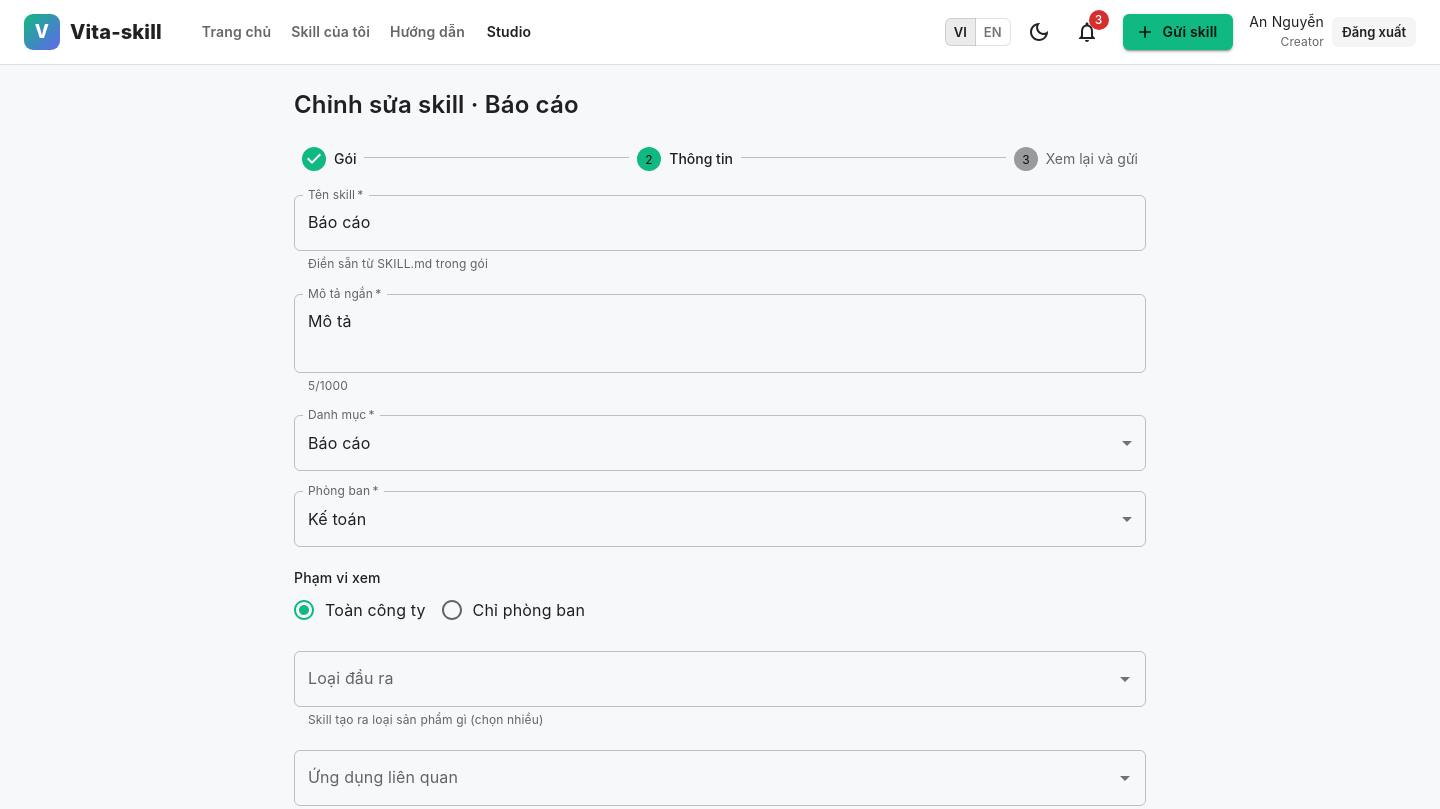
Scenario: Wizard › bước 2: kiểm tra form, lưu skill và phiên bản rồi sang bước 3
Clear the text box labelled "Mô tả ngắn *" at x=720, y=333, box [308,310,1132,356]
(page scrolled)
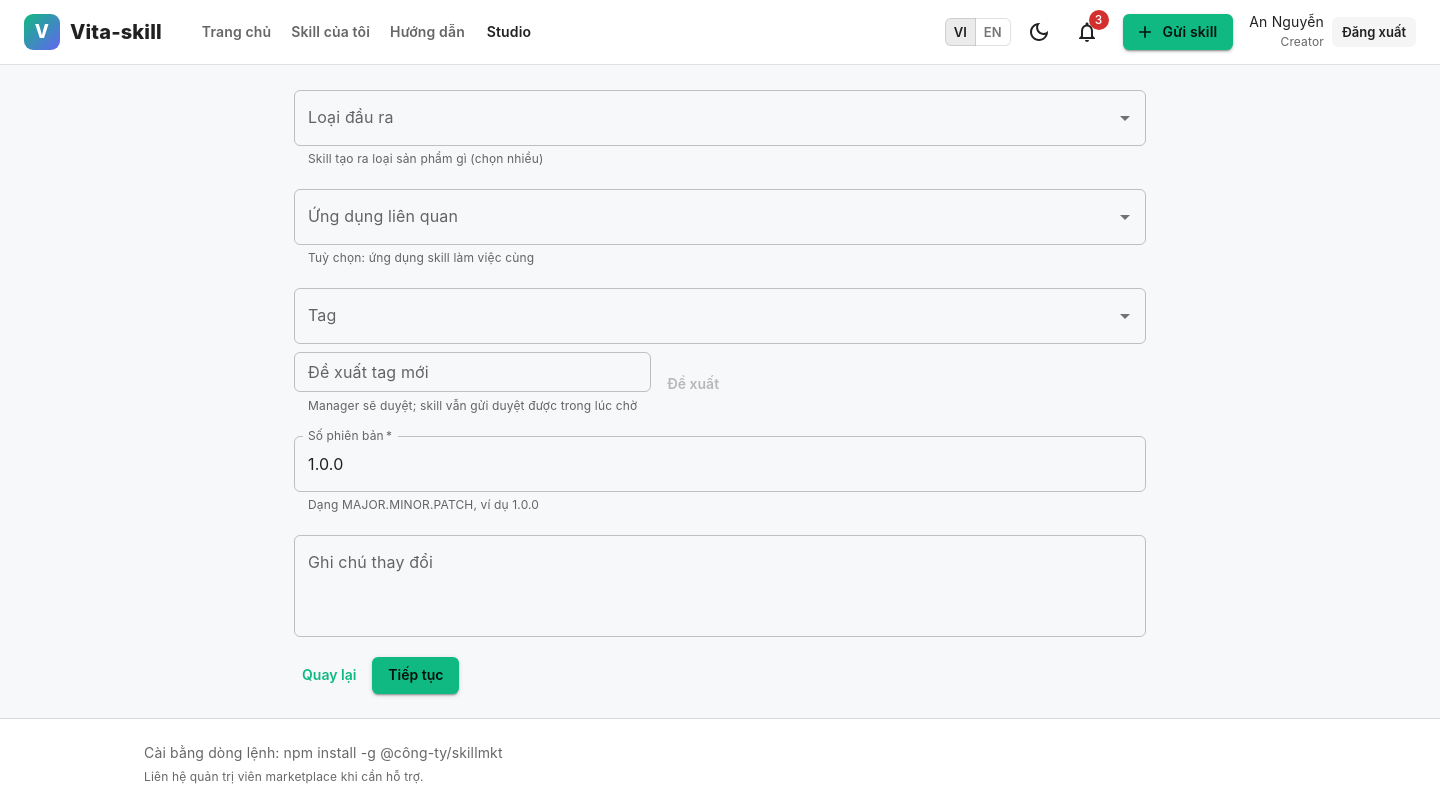
Click the button "Tiếp tục" at x=416, y=675, box [372,657,459,694]
(page scrolled)
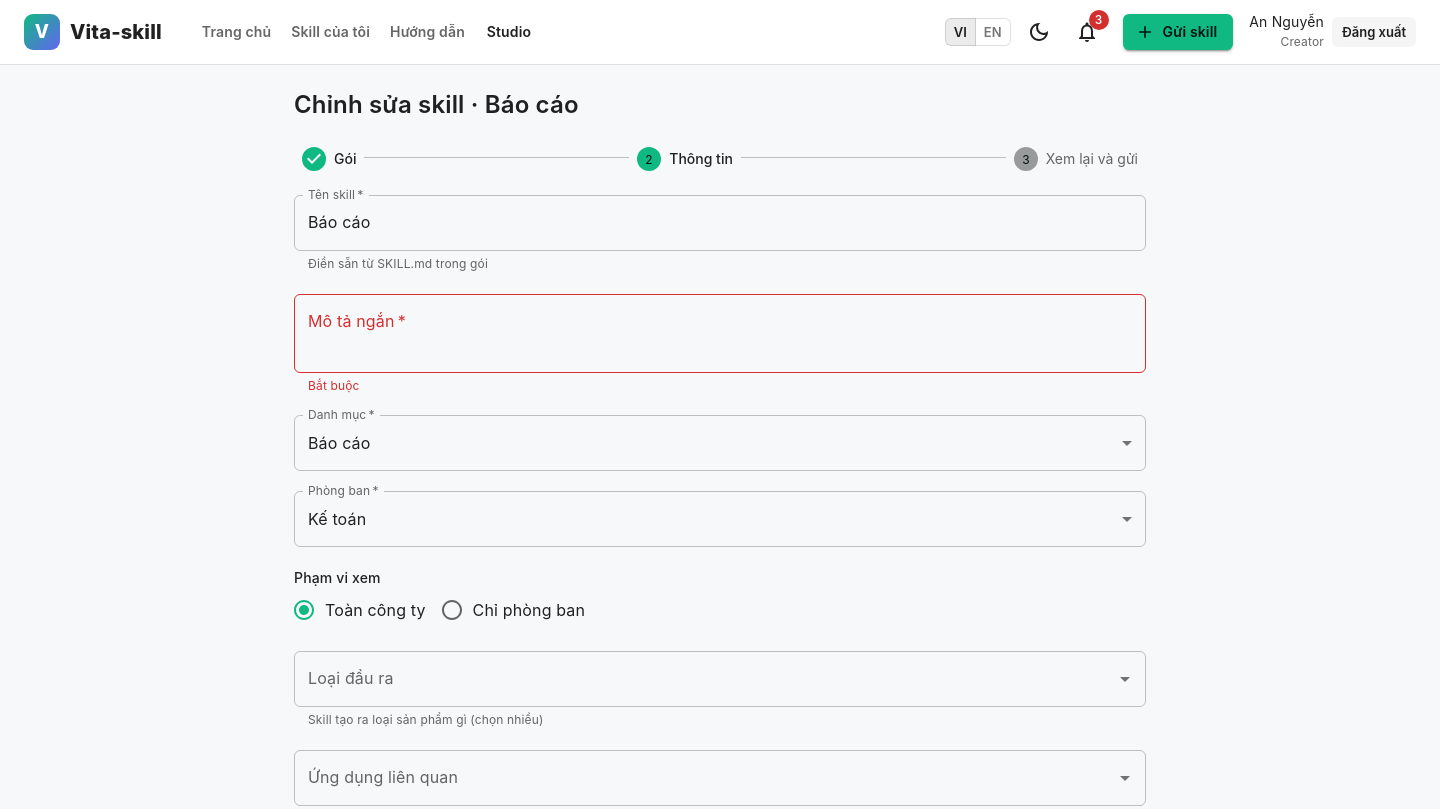
Type "Mô tả đã sửa" into the text box labelled "Mô tả ngắn *" at x=720, y=333, box [308,310,1132,356]
(page scrolled)
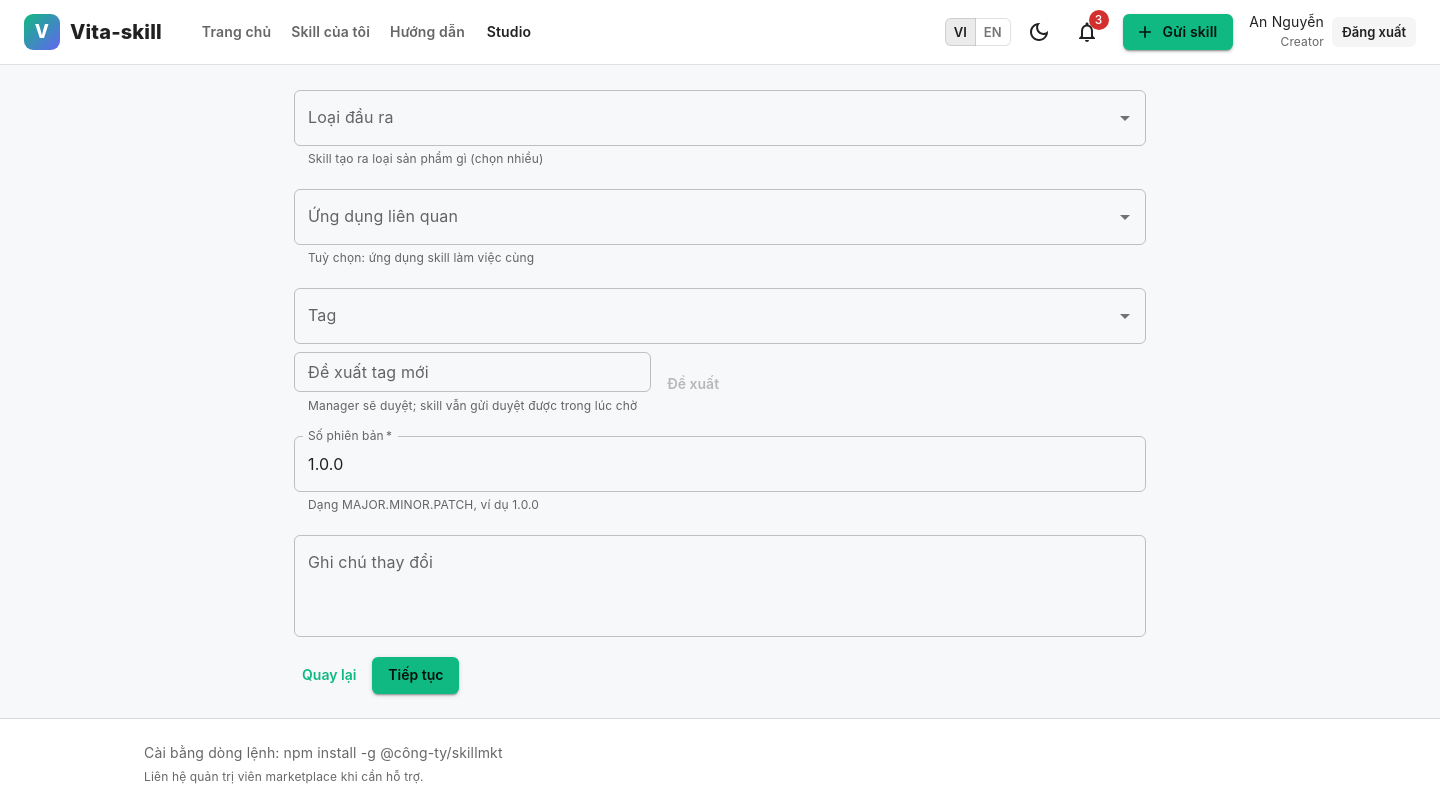
Replace the text in the field labelled "Số phiên bản *" with "1.2.0" at x=720, y=464, box [294,436,1146,492]
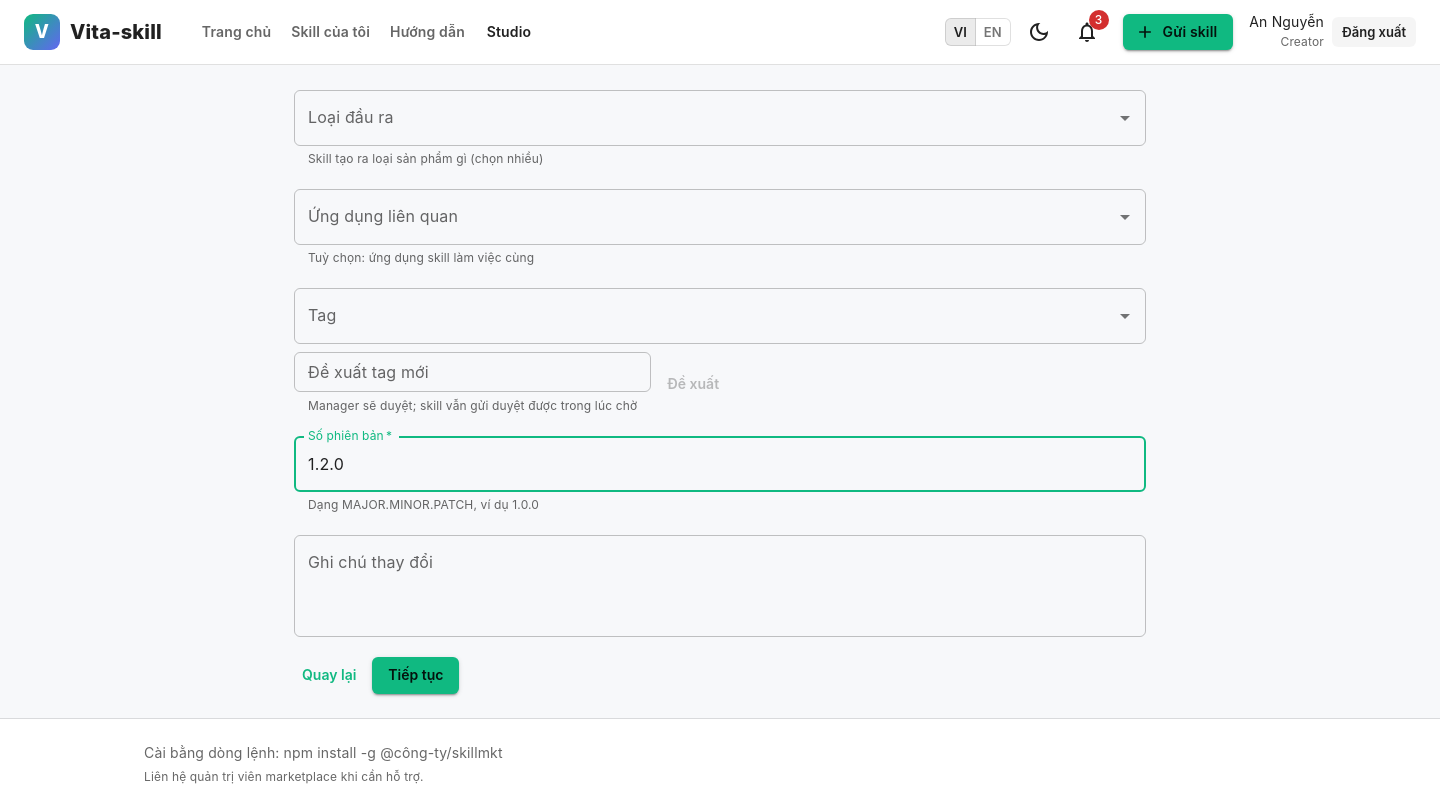
Type "Bản đầu" into the text box labelled "Ghi chú thay đổi" at x=720, y=586, box [308,552,1132,620]
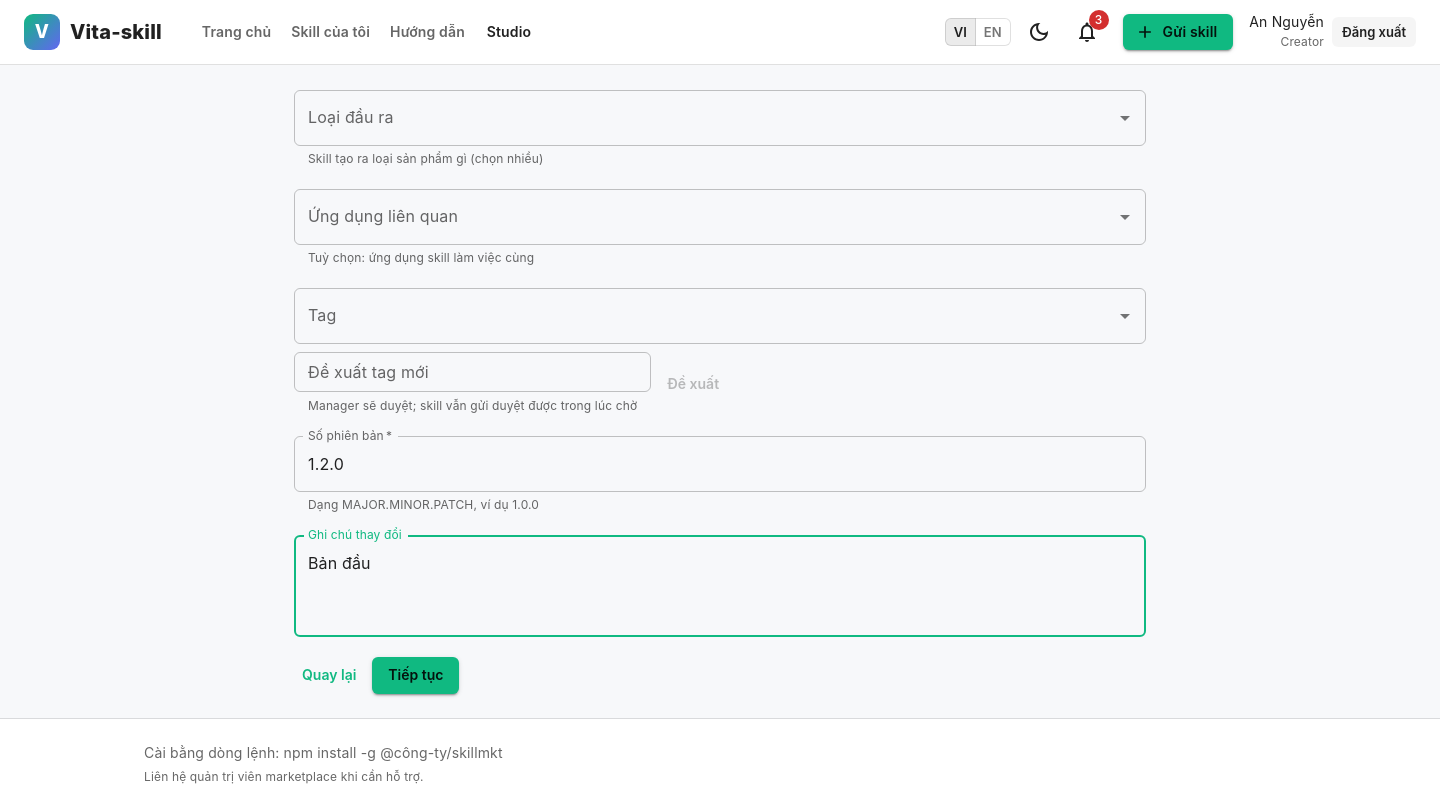
Click the button "Tiếp tục" at x=416, y=675, box [372,657,459,694]
(page scrolled)
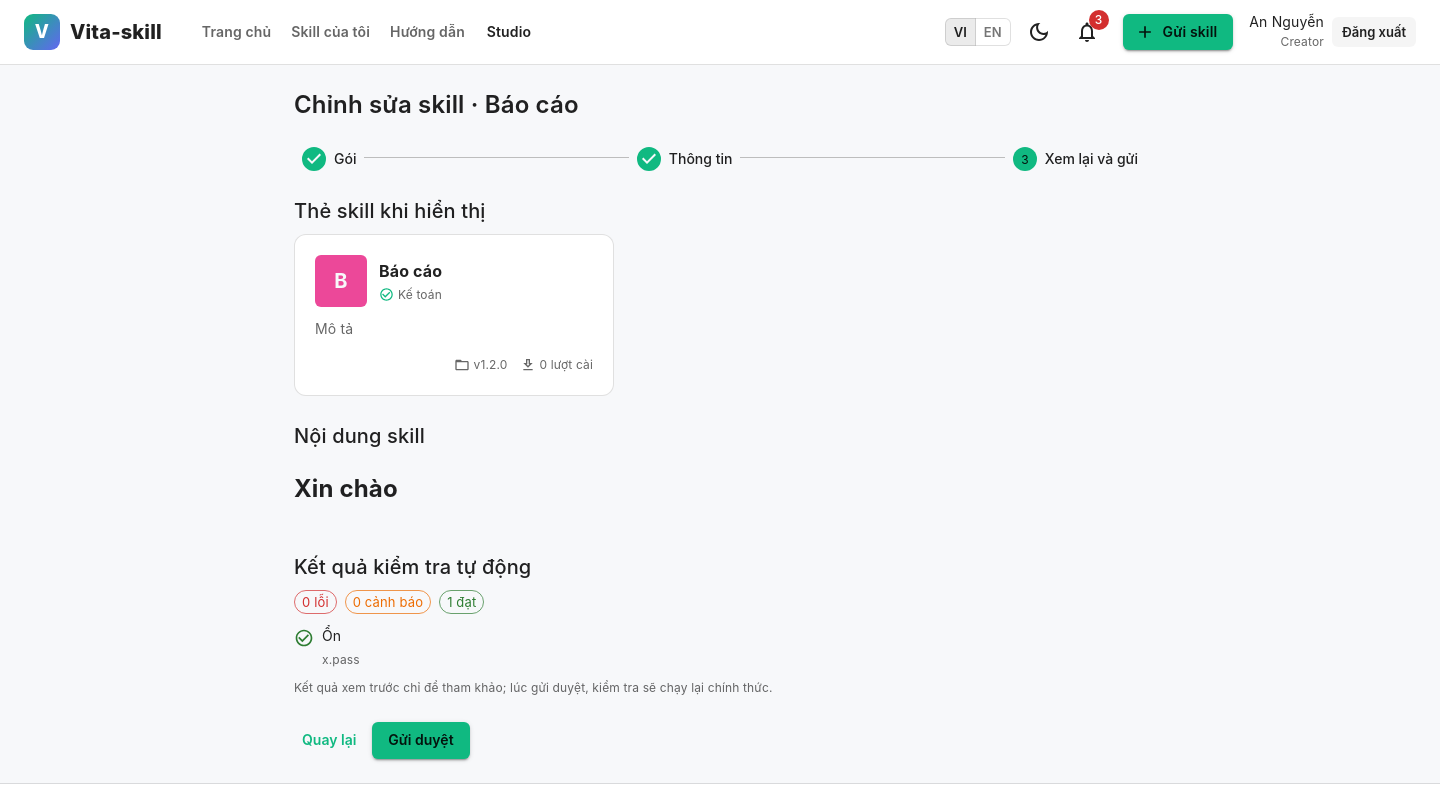
Check: the heading "Thẻ skill khi hiển thị" is shown, box [294,199,486,223]
